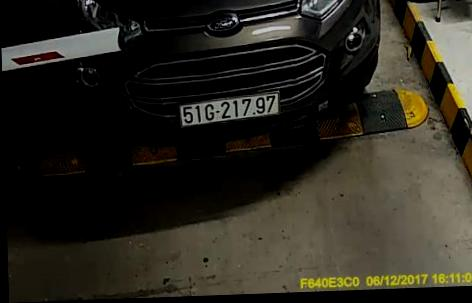License_Plate: (175, 93, 282, 132)
